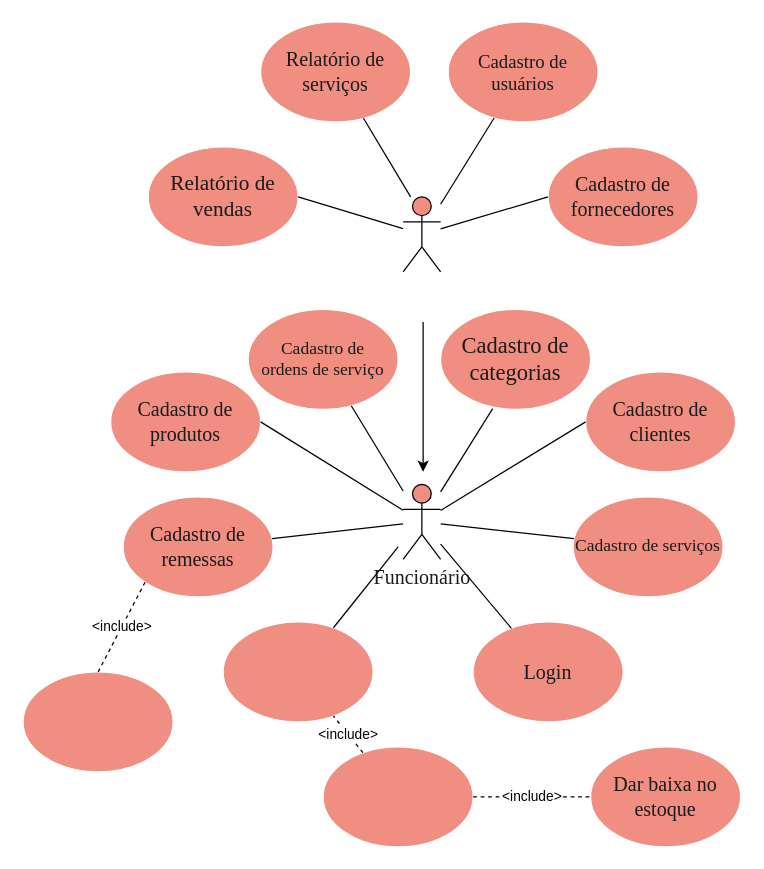
This 764x869 diagram has some shape labels left out. The shapes that lost their labels are listed below. From the top down, each one's box as (x1, y1, x2, y2) in pixels, then its label:
(402, 196, 441, 272): Administrador
(222, 621, 373, 722): Cadastro de vendas
(22, 671, 173, 772): Dar entrada no estoque
(322, 746, 473, 847): Verificar estoque
